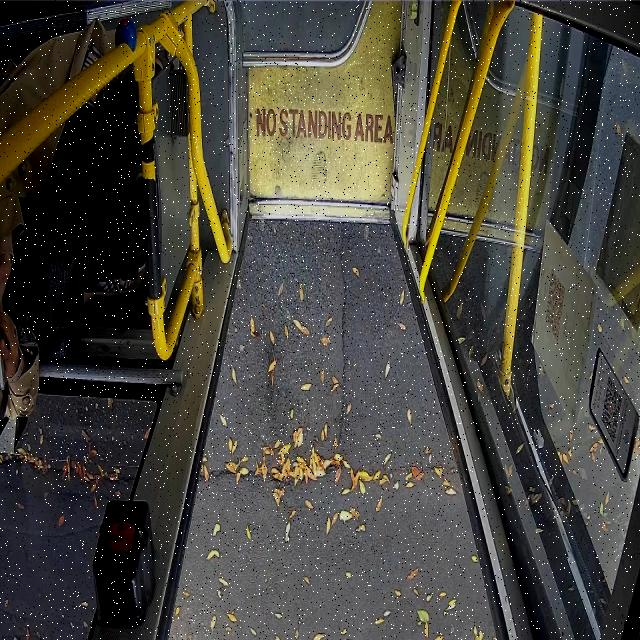open: (195, 209, 532, 639)
